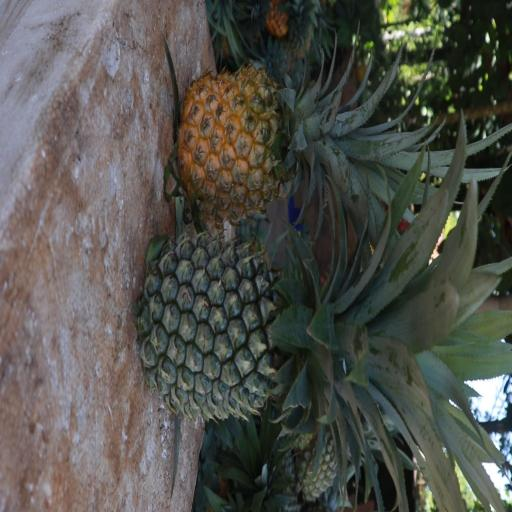Pineapple - v8 v1: (177, 63, 433, 212)
